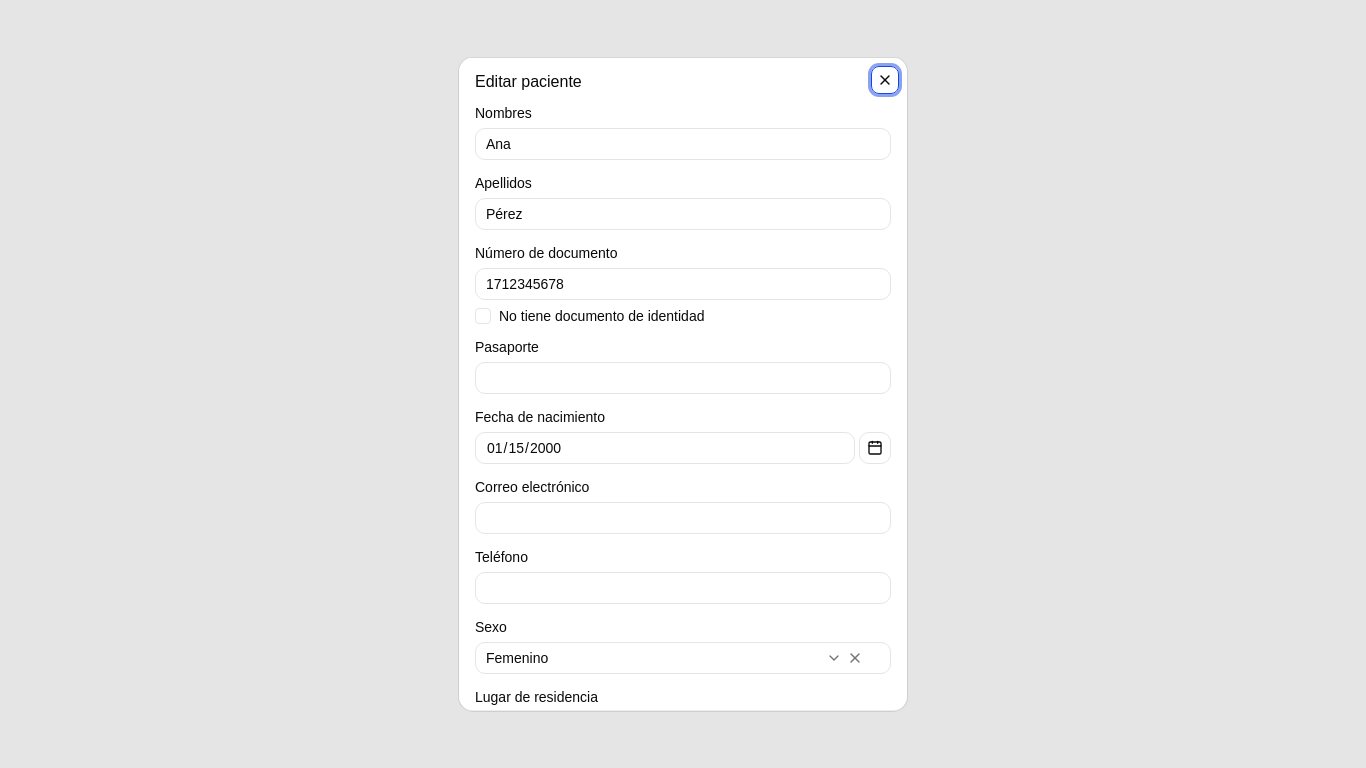
Scenario: PatientFormDialog — el bloqueo de embarazo del paso 13, sexo y fecha de nacimiento (SPEC FE12d §4 paso 13, §8) › con complicaciones activas, el diálogo las cuenta, no ofrece vaciar y con NOTIFIER pide retirarlas (SPEC FE33 §3.5)
Click the dropdown named "Sexo" at coordinates (517, 658), box [475,642,891,674]
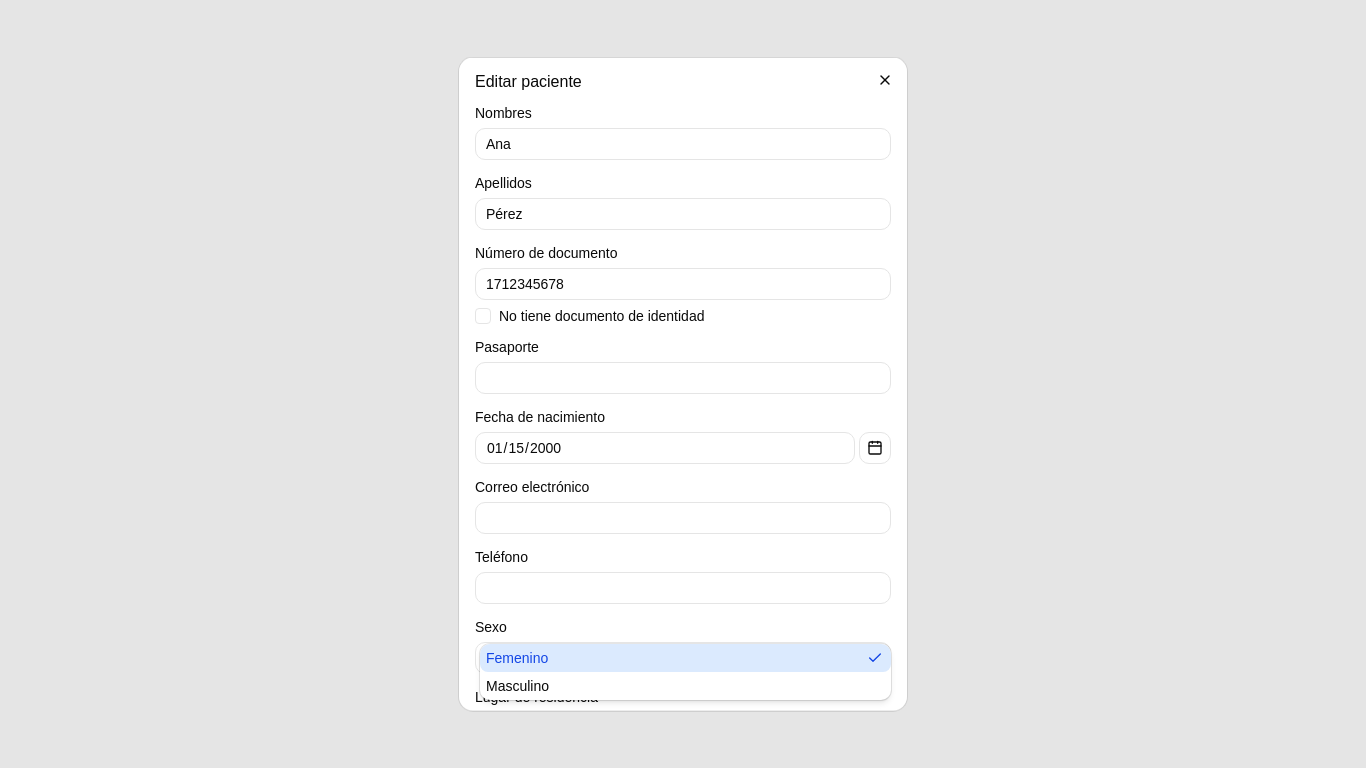
Click the option "Masculino" at coordinates (518, 686), box [486,678,549,694]
(page scrolled)
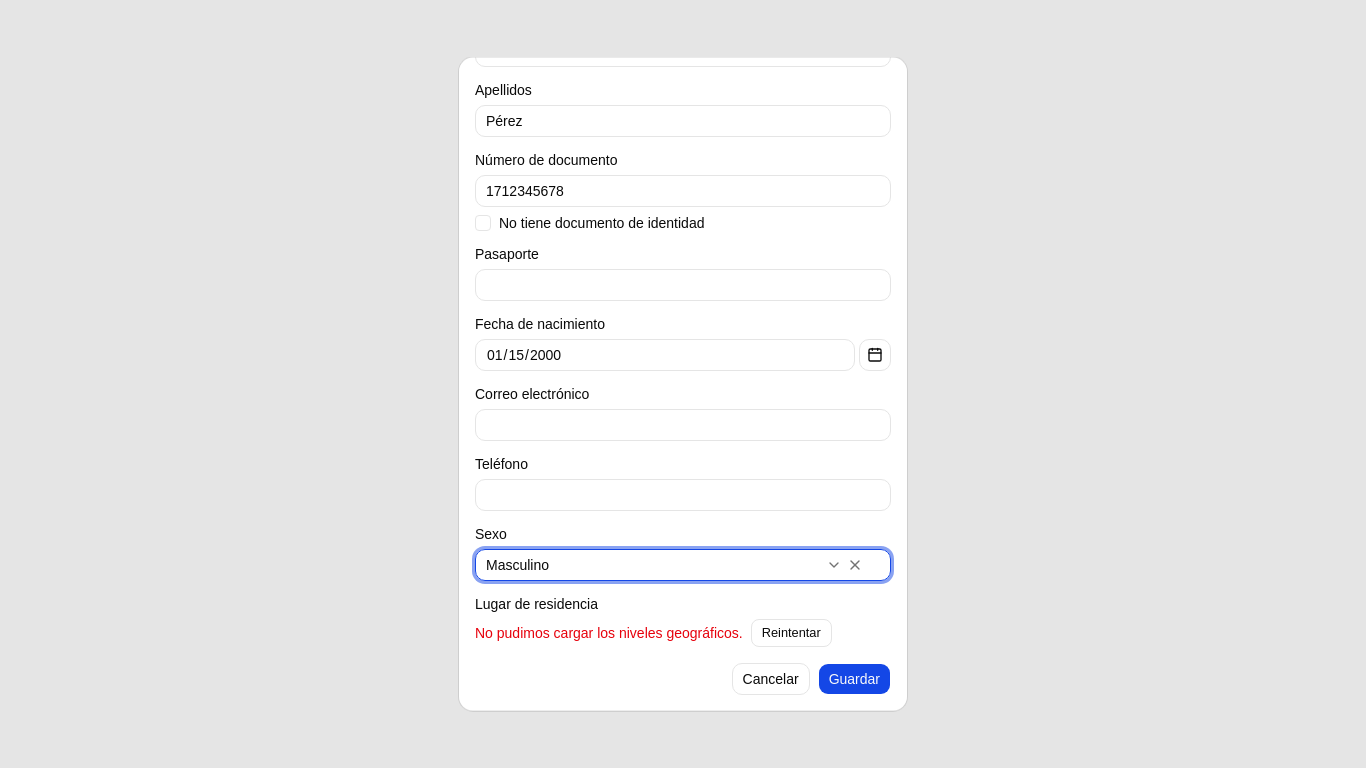
Expected: the button "Guardar" is enabled
Click the button "Guardar" at coordinates (854, 679), box [818,663,891,695]
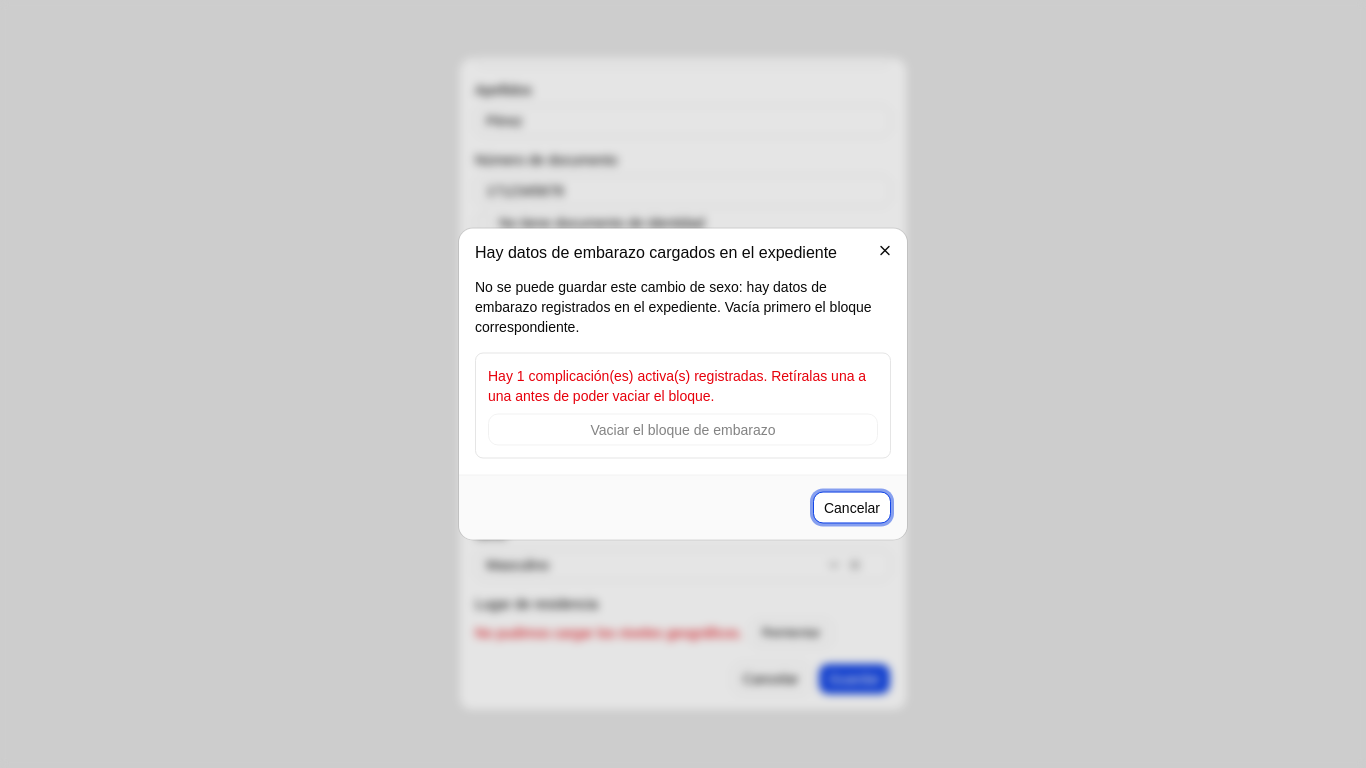
Expected: the text "Hay 1 complicación(es) activa(s) registradas. Retíralas una a una antes de poder vaciar el bloque." is shown, [488,368,866,404]
Expected: the button "Vaciar el bloque de embarazo" is disabled, [488,414,878,446]
